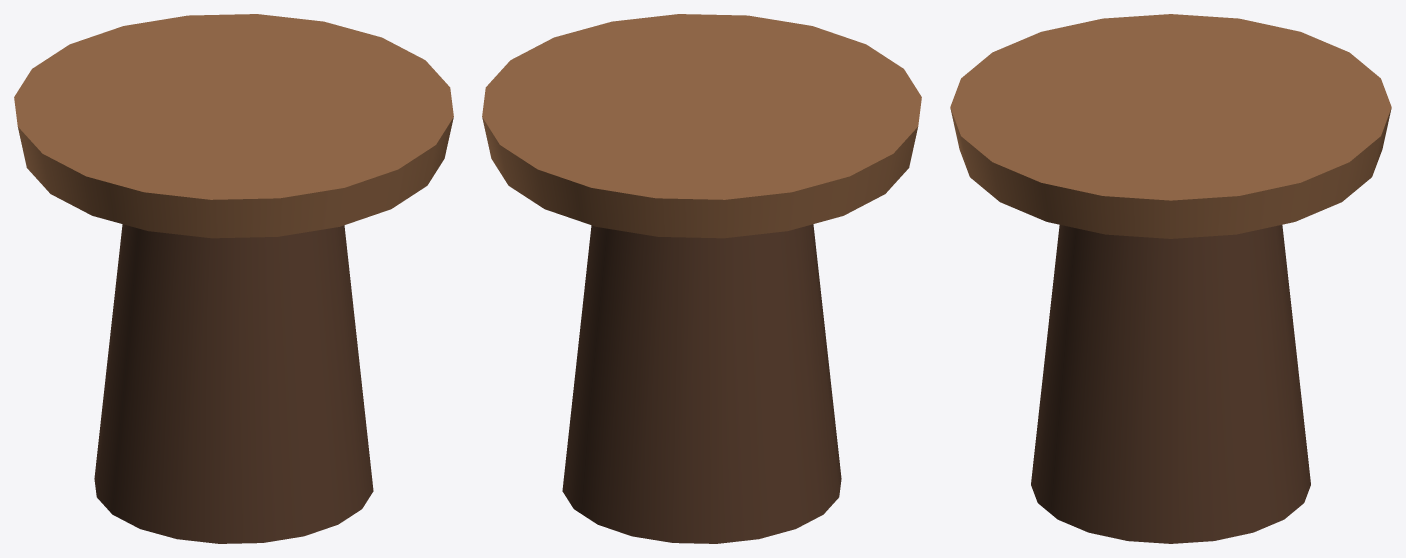
Rendered from ada-side-table.v1.web.glb.
3 renders of one model, left to right at view 1: azimuth 30°, elevation 25°; view 2: azimuth 150°, elevation 25°; view 3: azimuth 270°, elevation 25°, orthographic.
Bounding box in the file's own units: 0.52 × 0.4905 × 0.52.
